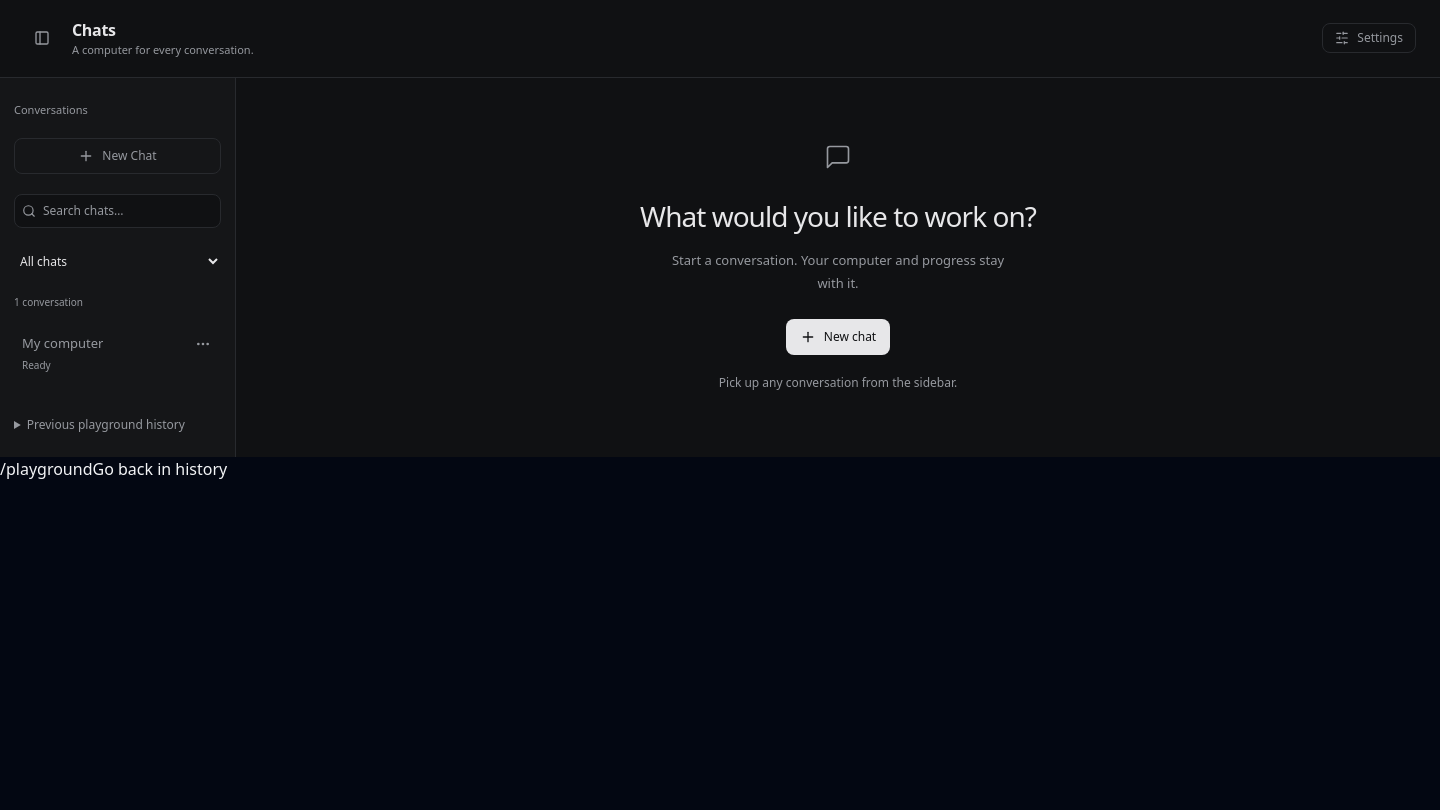
Scenario: durable chat workspace integration › reveals settings when a new computer needs a connection check
Expected: the element "Computer setup and defaults" is not shown
Click the button "New Chat" at [118, 156], box [14,138,221,174]
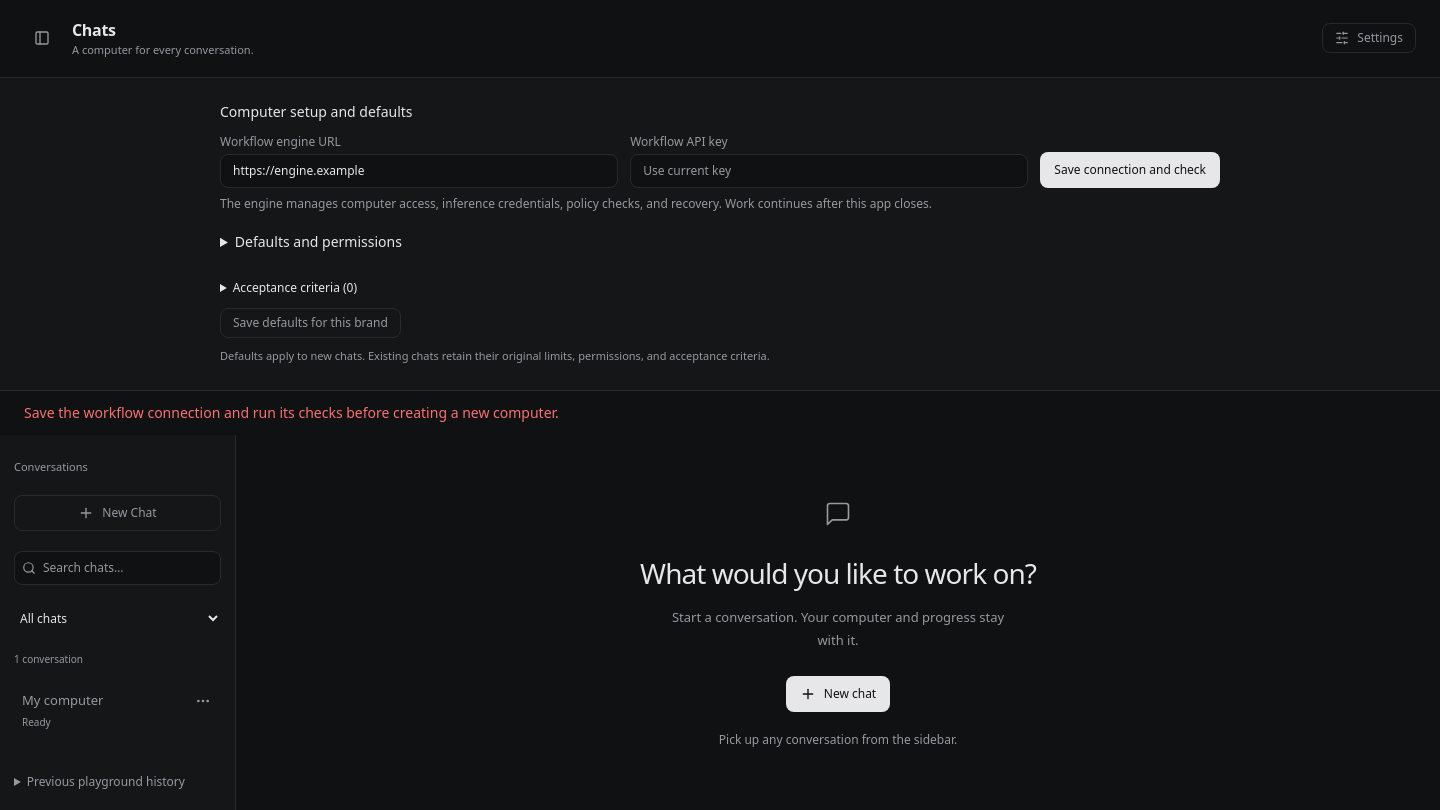
Now the element "Computer setup and defaults" is shown, box [220,102,1220,366]
